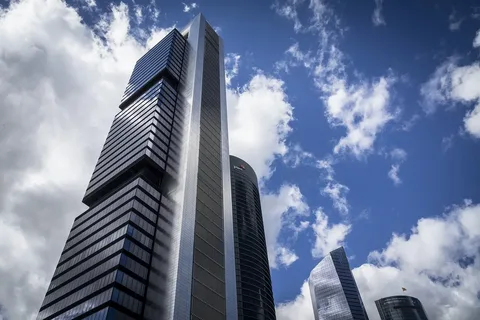high_rise_building: (103, 16, 236, 314)
